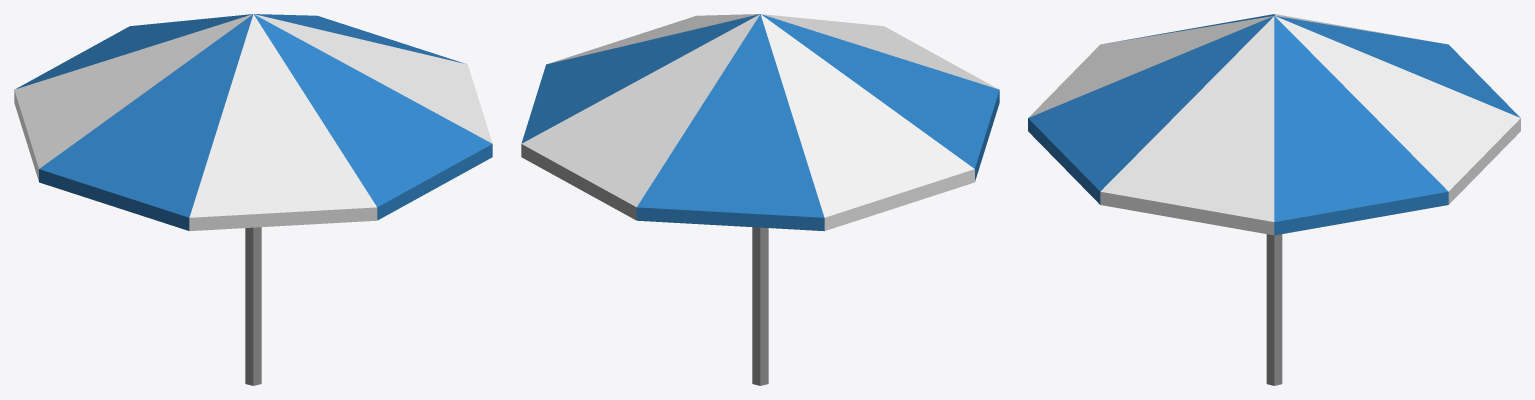
The model's file is Umbrella1.fbx.
The picture shows the model from 3 angles, left to right: view 1: azimuth 30°, elevation 25°; view 2: azimuth 150°, elevation 25°; view 3: azimuth 270°, elevation 25°; orthographic projection.
Parts seen in each view (by area): view 1: Umbrella; view 2: Umbrella; view 3: Umbrella.
Boxes of the visible parts, bbox=[...] form: Umbrella: bbox=[14, 14, 492, 385]; Umbrella: bbox=[521, 14, 999, 385]; Umbrella: bbox=[1028, 14, 1520, 385].
Size of the model in its own units: 249 by 204 by 249.
